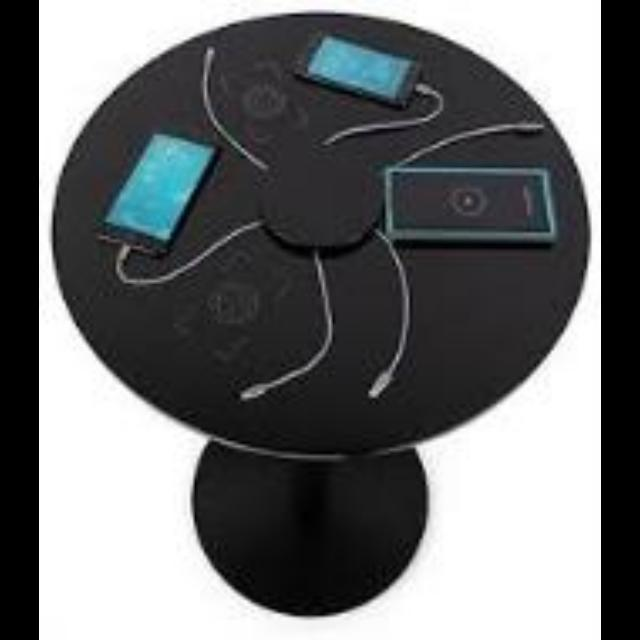Phone: (88, 134, 226, 256), (288, 14, 429, 108), (388, 168, 552, 242)
